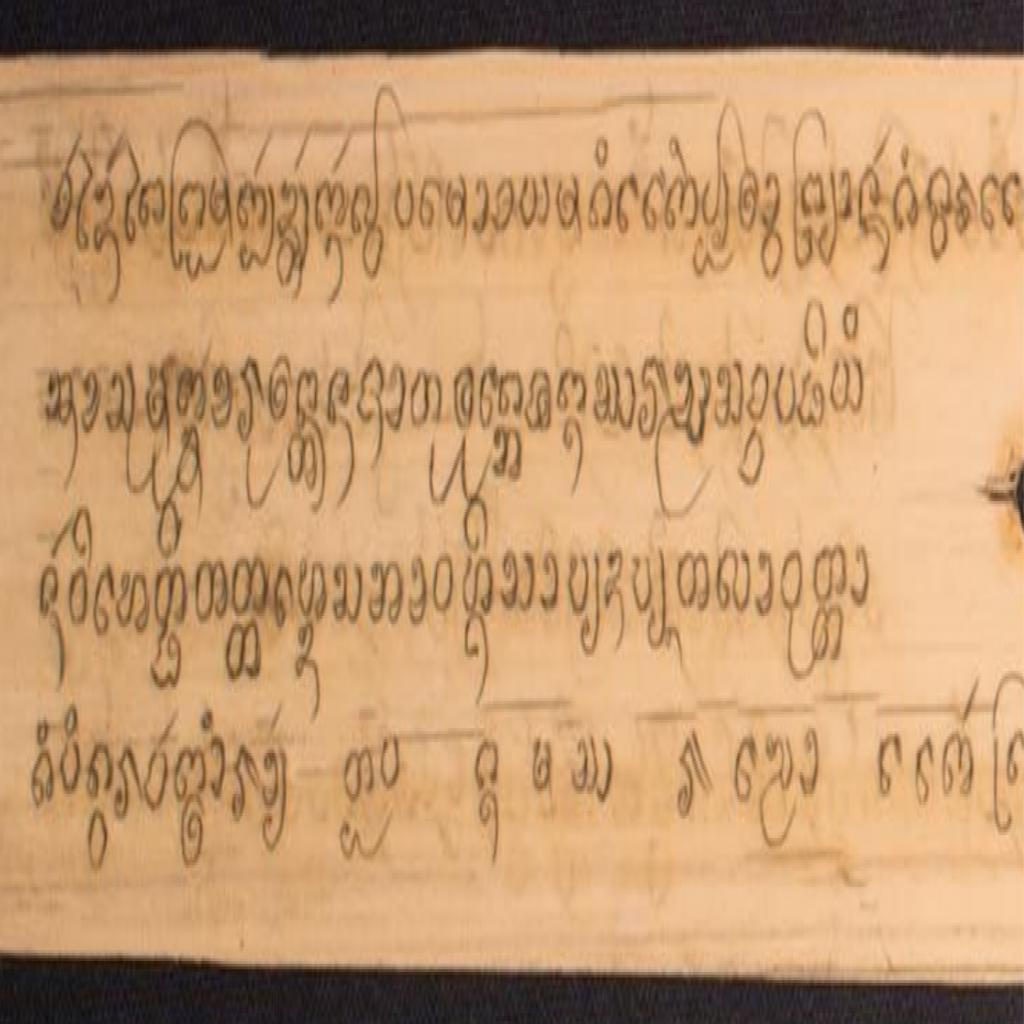LN011: (759, 725, 797, 856)
LN034: (714, 541, 754, 622)
